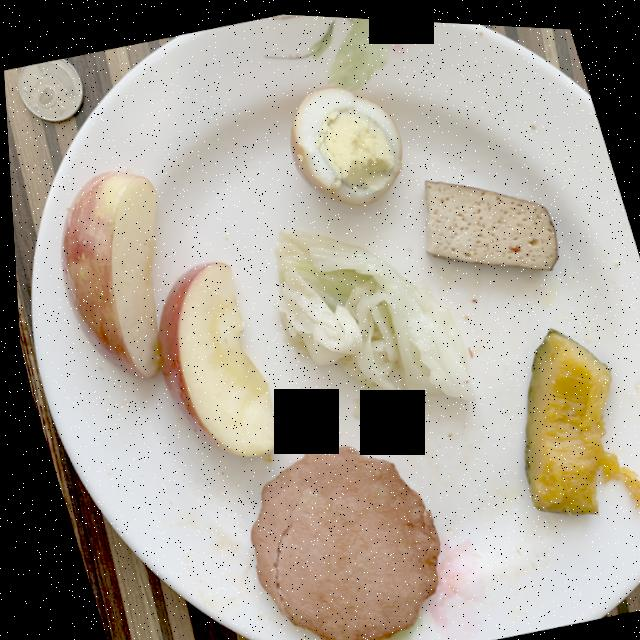Spam: (244, 442, 433, 640)
apple -sliced-: (58, 170, 273, 453)
cabbage: (269, 227, 470, 413)
coin: (17, 58, 82, 121)
firm tofu: (422, 176, 555, 265)
pumpkin: (519, 322, 640, 508)
soy egg: (288, 83, 400, 201)
